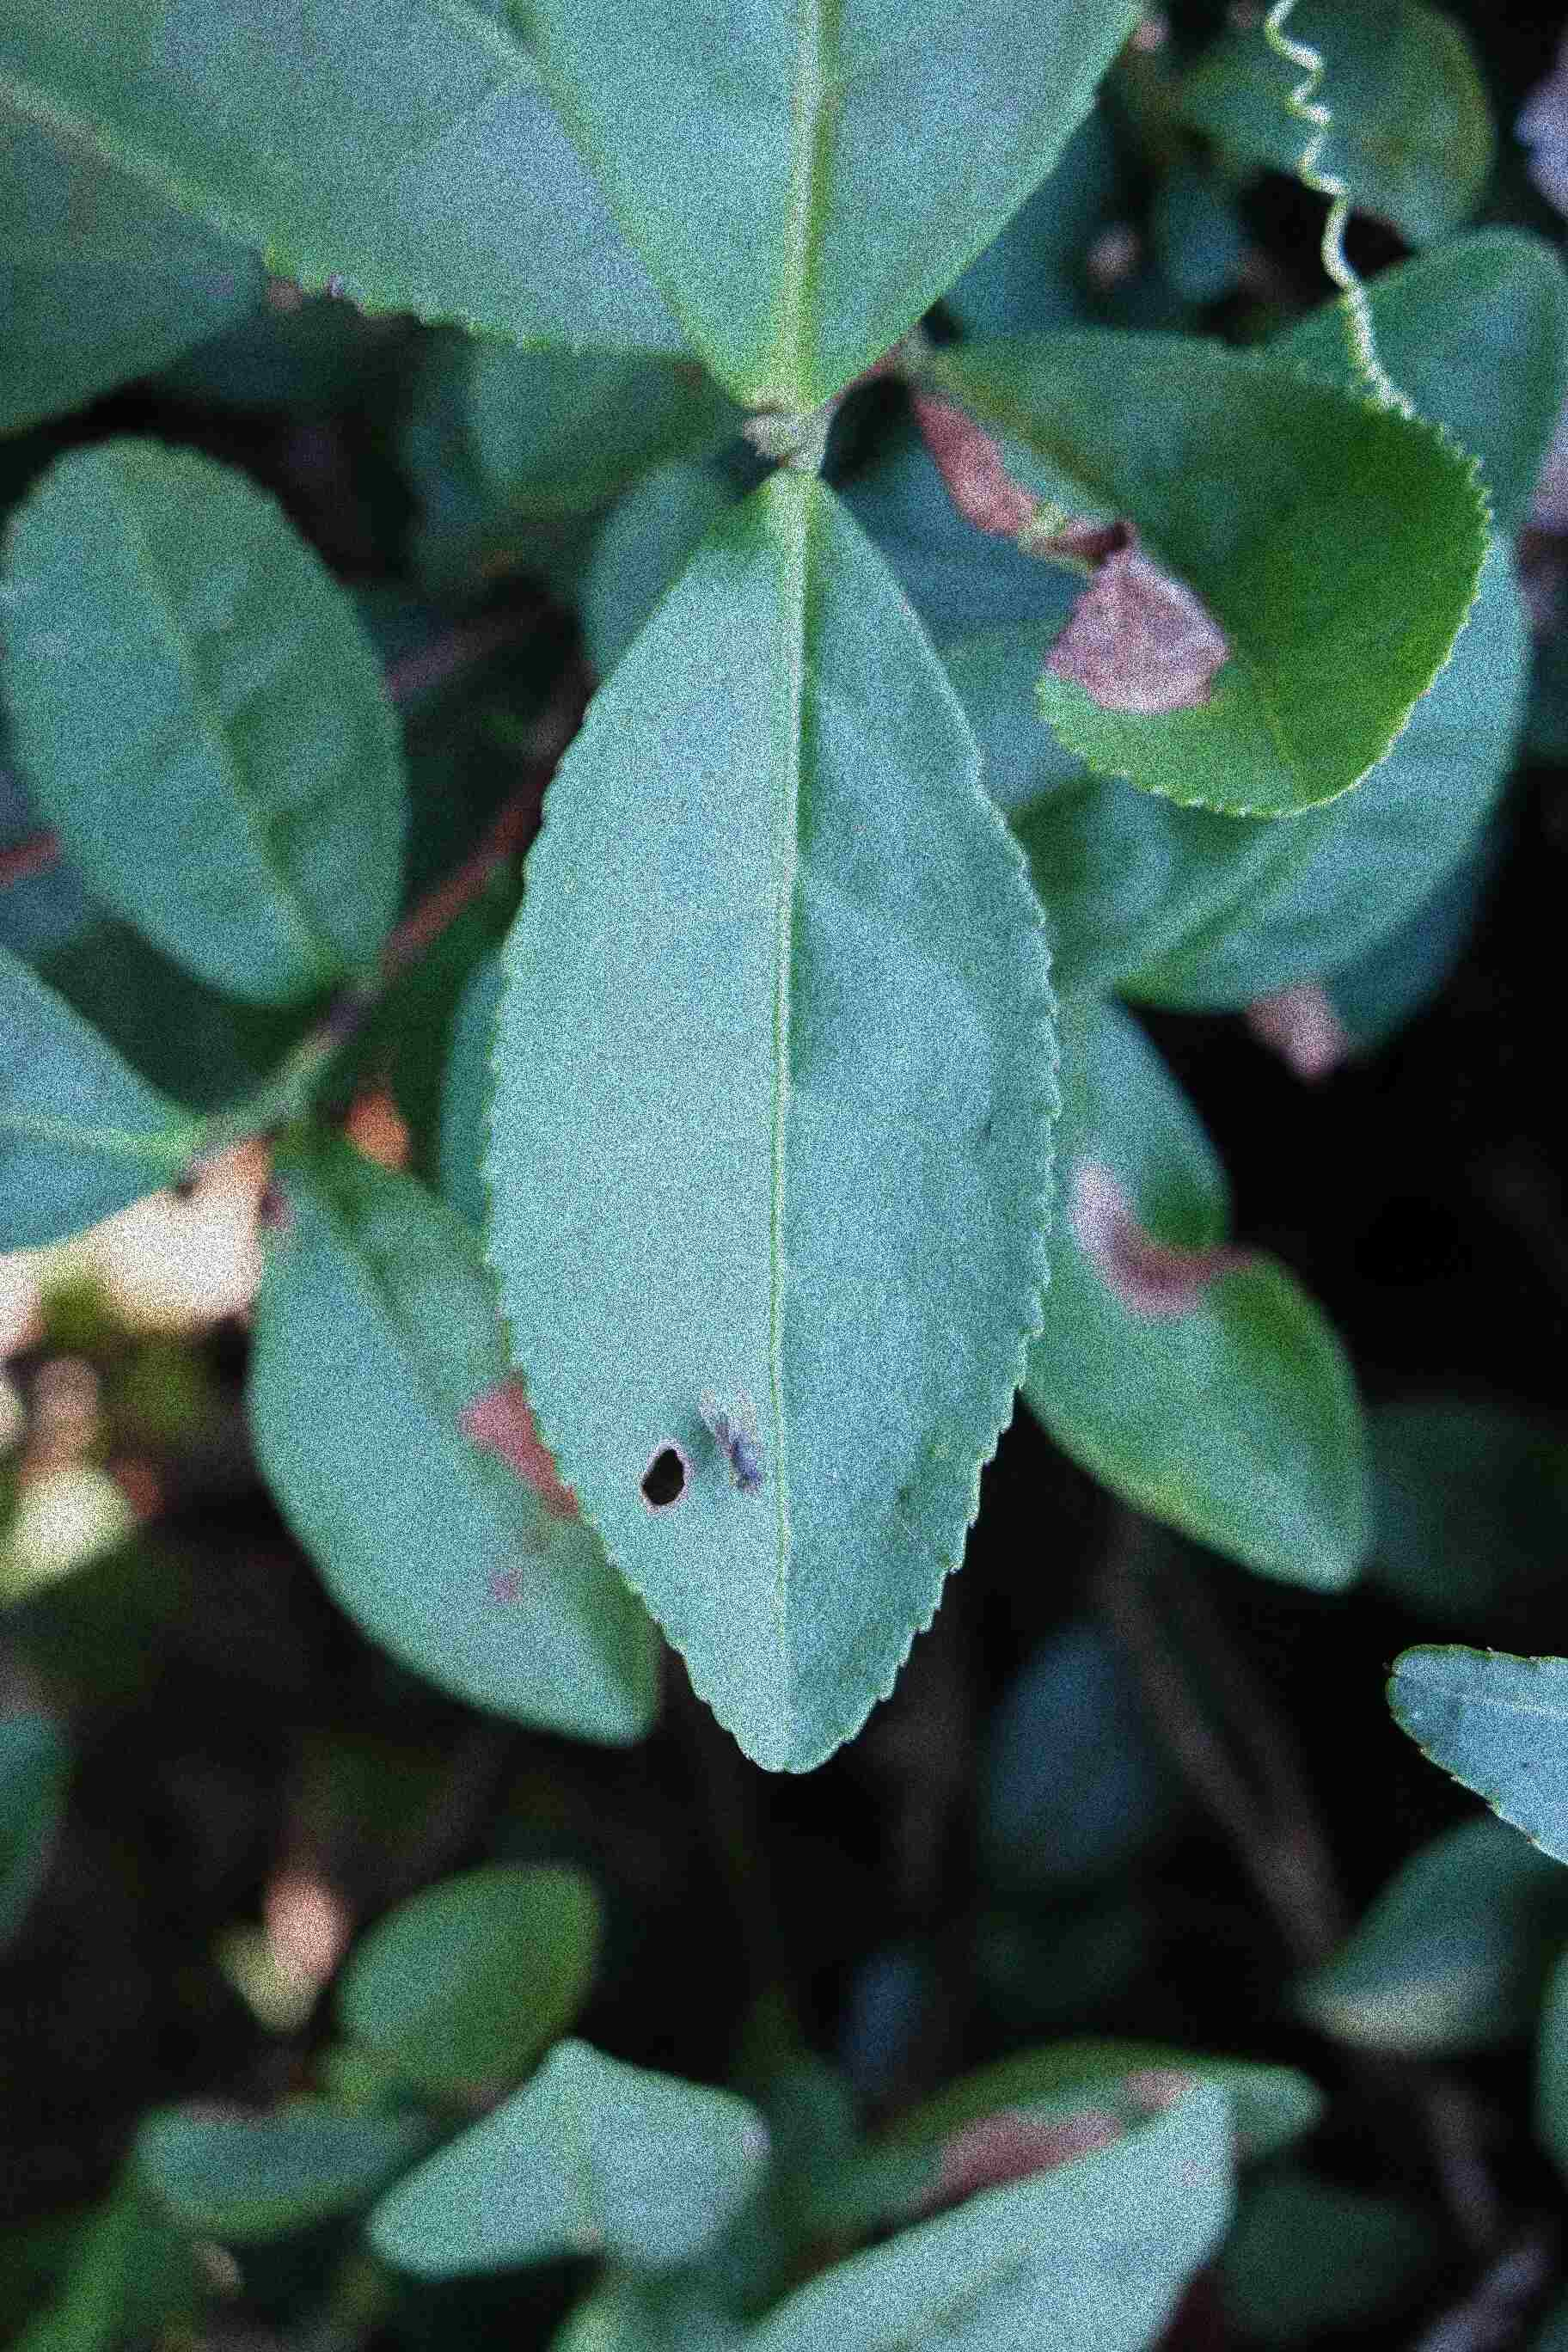chihuo_low: (485, 469, 1062, 1780)
tanju_high: (917, 327, 1486, 817)
